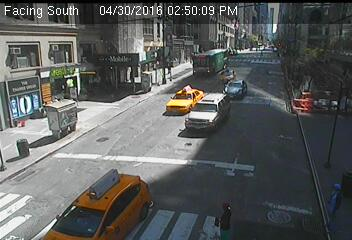neg: (110, 138, 147, 187), (72, 42, 107, 88), (44, 80, 73, 120), (145, 69, 173, 106), (281, 44, 309, 81), (29, 128, 57, 165), (74, 160, 100, 195), (246, 80, 265, 106), (205, 73, 224, 98), (235, 38, 248, 55), (172, 27, 184, 43)
pos: (307, 178, 343, 226), (206, 200, 233, 237)
